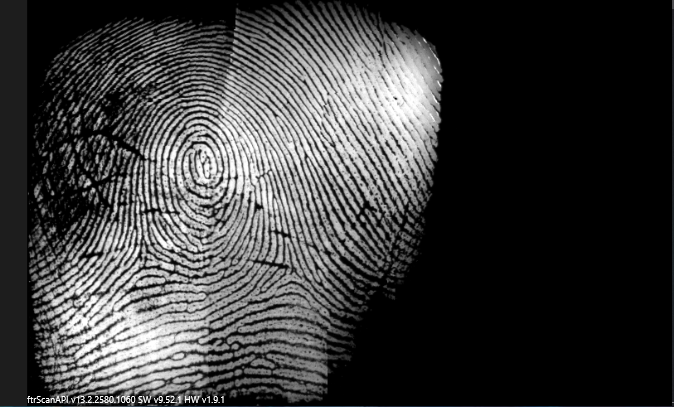deltas: (270, 243, 311, 291), (129, 238, 164, 279)
nucleo: (184, 143, 218, 188)
